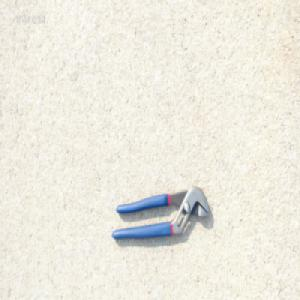Pliers: (111, 184, 214, 240)
